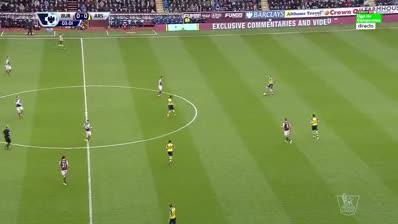futbol: (261, 91, 269, 98)
player: (55, 153, 73, 190), (278, 115, 297, 148), (162, 136, 178, 170), (307, 111, 323, 144), (80, 117, 96, 146), (163, 196, 180, 223), (11, 95, 27, 123), (164, 93, 179, 120), (262, 73, 277, 98), (153, 73, 166, 100), (3, 54, 14, 78), (55, 32, 68, 51)
referree: (2, 123, 14, 153)
